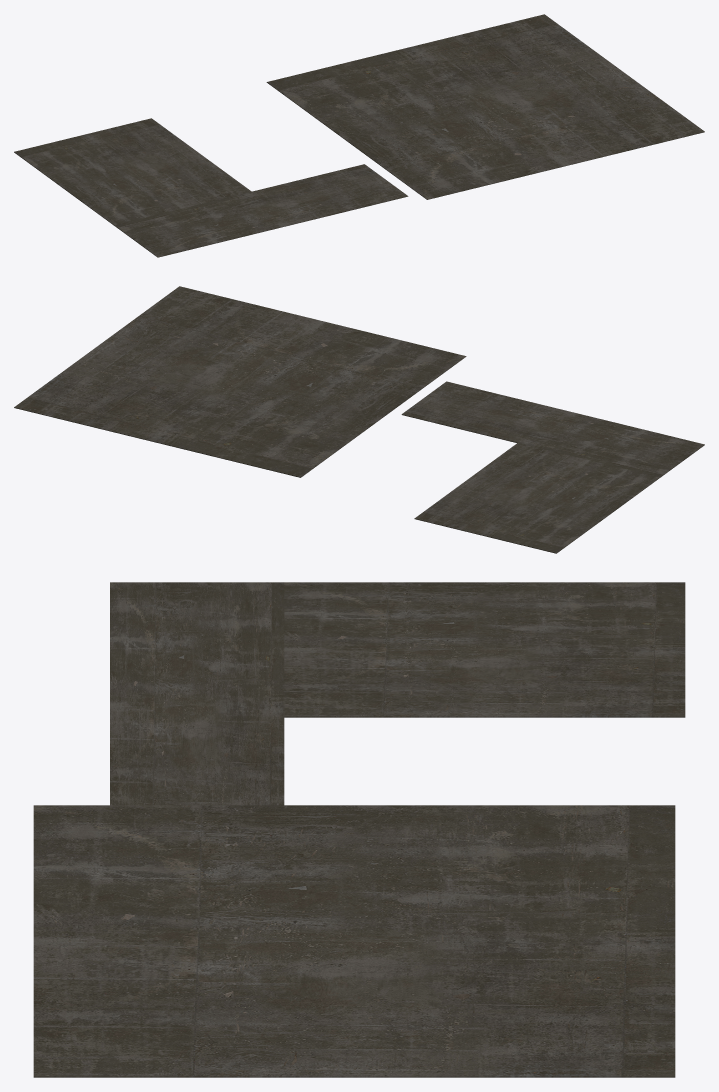
Rendered from plafond.glb.
The picture shows the model from 3 angles, top to bottom: view 1: azimuth 30°, elevation 25°; view 2: azimuth 150°, elevation 25°; view 3: azimuth 270°, elevation 25°; orthographic projection. The views are drawn at different scales.
Parts seen in each view (by area): view 1: plafond; view 2: plafond; view 3: plafond.
Part boxes in pixels (bbox=[...]): plafond: bbox=[14, 14, 704, 257]; plafond: bbox=[14, 286, 704, 553]; plafond: bbox=[33, 582, 685, 1077].
Bounding box in the file's own units: 9.51 × 0.1916 × 5.08.
Materials: 1 (1 with a texture image).
